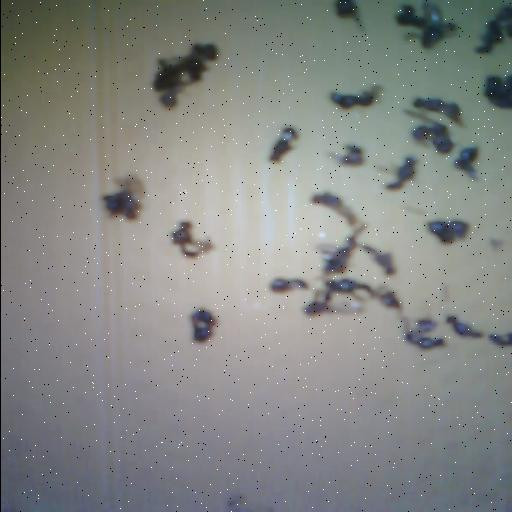Insects: (153, 43, 217, 106), (396, 1, 456, 48), (316, 224, 366, 274), (404, 110, 453, 153), (102, 176, 143, 219), (475, 5, 511, 52), (303, 289, 362, 315), (413, 97, 464, 127), (311, 192, 357, 225), (171, 221, 213, 256), (401, 316, 444, 349), (330, 85, 381, 108), (385, 156, 417, 190), (268, 126, 297, 161), (360, 245, 395, 274), (483, 74, 511, 108), (428, 220, 468, 243), (191, 309, 216, 342), (335, 0, 363, 29), (326, 278, 373, 295), (227, 494, 273, 511), (446, 315, 483, 336), (454, 146, 477, 179), (328, 145, 363, 165), (373, 286, 401, 310), (270, 278, 307, 291), (488, 332, 511, 345), (489, 238, 503, 249)
